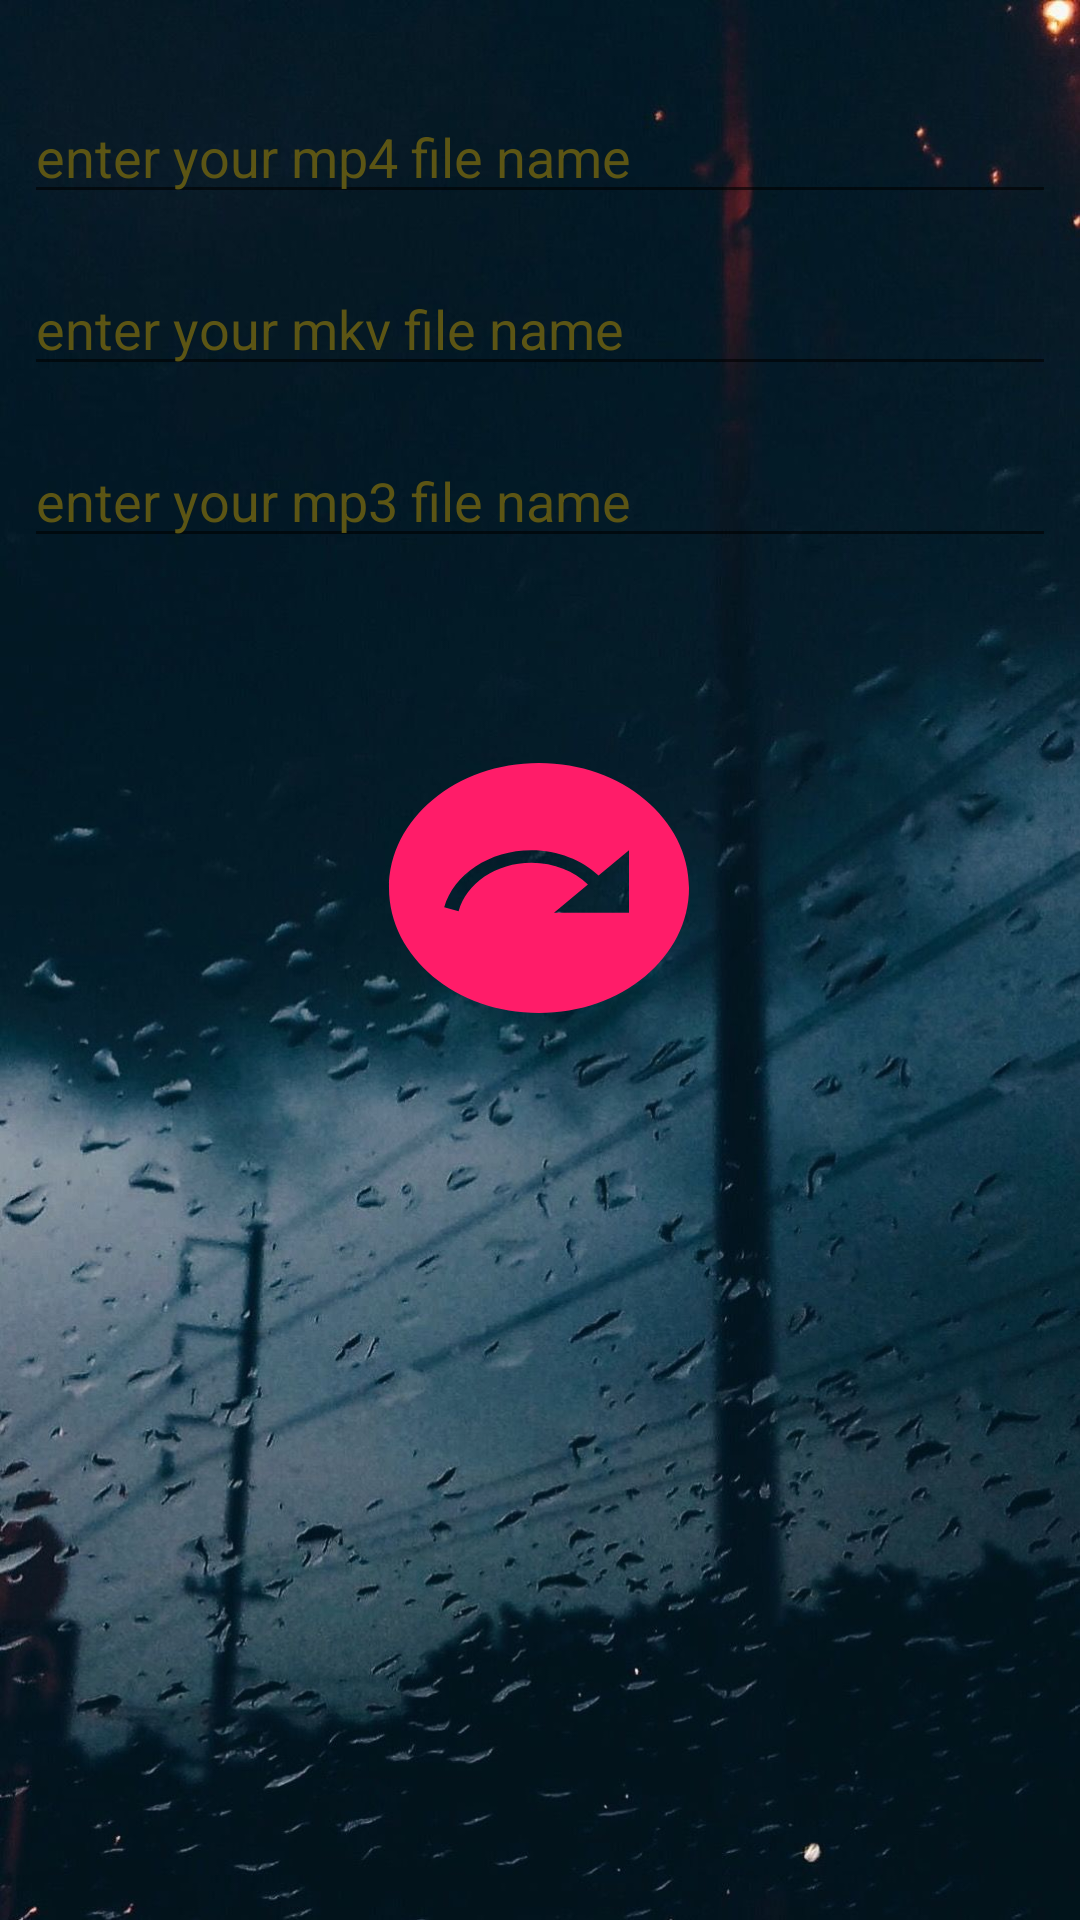

Icon bounding boxes for this 1080px x 1920px phone screenshot, format [x1, y1, x2, y2]:
next: [359, 759, 719, 1038]
